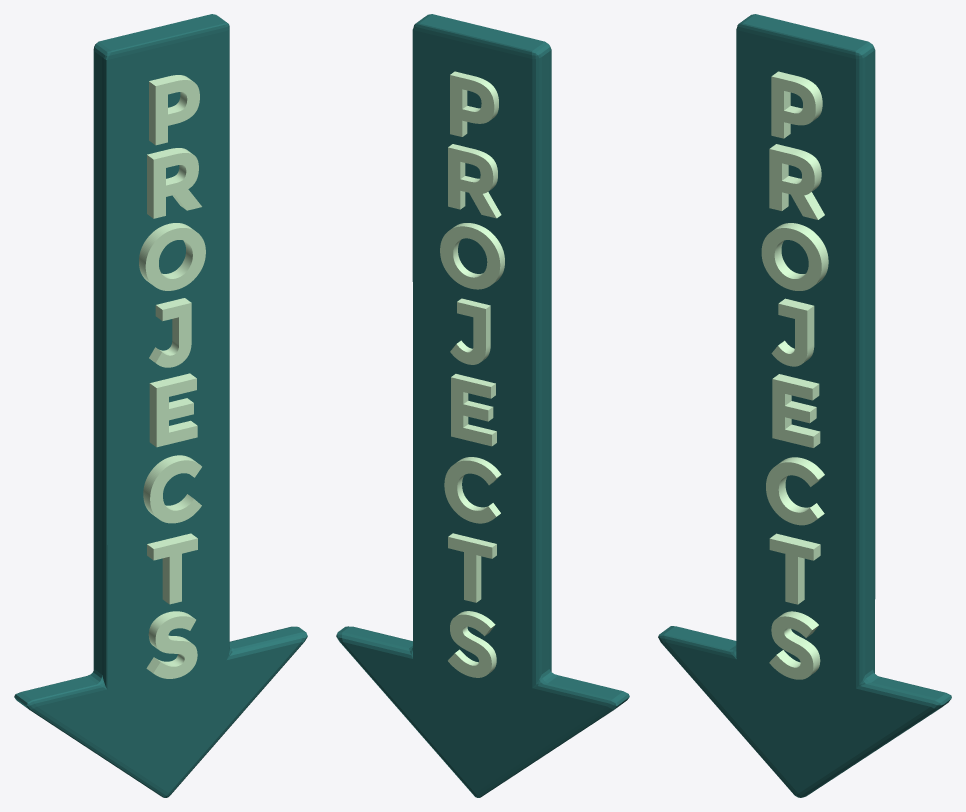
Rendered from projects_panel.fbx.
3 views of the same model, side by side, from view 1: azimuth 30°, elevation 25°; view 2: azimuth 150°, elevation 25°; view 3: azimuth 330°, elevation 25° (orthographic).
Parts seen in each view (by area): view 1: Vert.003, Text.002, Text.001, Text.004, Text, Text.006, Text.007, Text.003, Text.005; view 2: Vert.003, Text.009, Text.010, Text.012, Text.014, Text.008, Text.015, Text.011, Text.013; view 3: Vert.003, Text.001, Text.002, Text.004, Text.006, Text, Text.007, Text.003, Text.005.
Part boxes in pixels (left/top/right/bottom): Vert.003: left=14, top=14, right=307, bottom=797; Text.002: left=139, top=223, right=205, bottom=290; Text.001: left=147, top=148, right=201, bottom=218; Text.004: left=149, top=373, right=197, bottom=447; Text: left=149, top=75, right=199, bottom=145; Text.006: left=146, top=611, right=197, bottom=678; Text.007: left=143, top=455, right=201, bottom=523; Text.003: left=149, top=298, right=191, bottom=367; Text.005: left=147, top=533, right=197, bottom=604; Vert.003: left=336, top=14, right=629, bottom=797; Text.009: left=448, top=144, right=501, bottom=218; Text.010: left=440, top=223, right=504, bottom=289; Text.012: left=451, top=374, right=496, bottom=446; Text.014: left=448, top=611, right=496, bottom=677; Text.008: left=450, top=71, right=498, bottom=136; Text.015: left=444, top=457, right=501, bottom=523; Text.011: left=450, top=298, right=490, bottom=364; Text.013: left=448, top=533, right=496, bottom=602; Vert.003: left=658, top=14, right=951, bottom=797; Text.001: left=769, top=144, right=824, bottom=219; Text.002: left=761, top=223, right=828, bottom=290; Text.004: left=772, top=374, right=820, bottom=447; Text.006: left=769, top=611, right=820, bottom=679; Text: left=771, top=71, right=822, bottom=138; Text.007: left=766, top=457, right=824, bottom=525; Text.003: left=771, top=298, right=814, bottom=366; Text.005: left=769, top=533, right=820, bottom=604.
Bounding box in the file's own units: 1338 × 3436 × 214.
